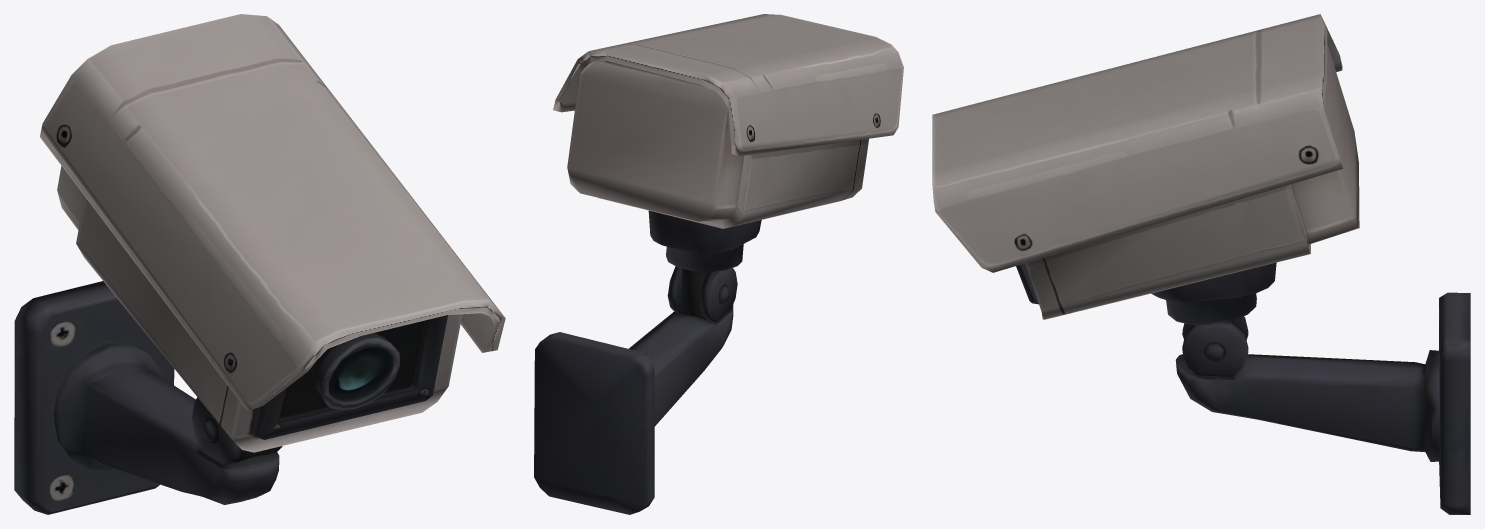
Rendered from security-camera.glb.
3 renders of one model, left to right at view 1: azimuth 30°, elevation 25°; view 2: azimuth 150°, elevation 25°; view 3: azimuth 270°, elevation 25°, orthographic. The views are drawn at different scales.
Parts seen in each view (by area): view 1: geometry_0; view 2: geometry_0; view 3: geometry_0.
Part boxes in pixels (x1,y1,x2,y2): geometry_0: (14,14,505,514); geometry_0: (534,14,903,514); geometry_0: (932,14,1470,514).
Bounding box in the file's own units: 0.4524 × 0.9181 × 1.
Materials: 1 (1 with a texture image).
